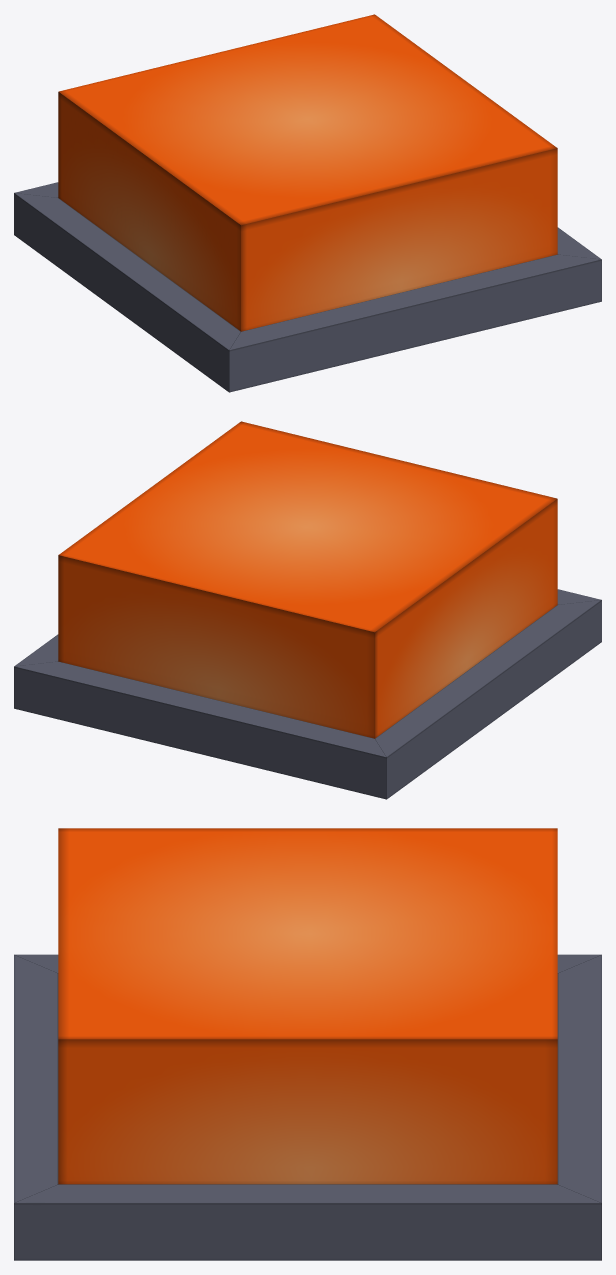
File: Button_Squared_Orange.FBX
3 renders of one model, top to bottom at view 1: azimuth 30°, elevation 25°; view 2: azimuth 150°, elevation 25°; view 3: azimuth 270°, elevation 25°, orthographic. The views are drawn at different scales.
Visible parts, largest first — view 1: Push_Me, Button_Squared_Orange; view 2: Push_Me, Button_Squared_Orange; view 3: Push_Me, Button_Squared_Orange.
Part boxes in pixels (bbox=[...]): Push_Me: bbox=[58, 14, 557, 331]; Button_Squared_Orange: bbox=[14, 182, 601, 392]; Push_Me: bbox=[58, 421, 557, 738]; Button_Squared_Orange: bbox=[14, 589, 601, 799]; Push_Me: bbox=[58, 828, 557, 1184]; Button_Squared_Orange: bbox=[14, 954, 601, 1260].
Bounding box in the file's own units: 0.0922 × 0.0351 × 0.0922.
